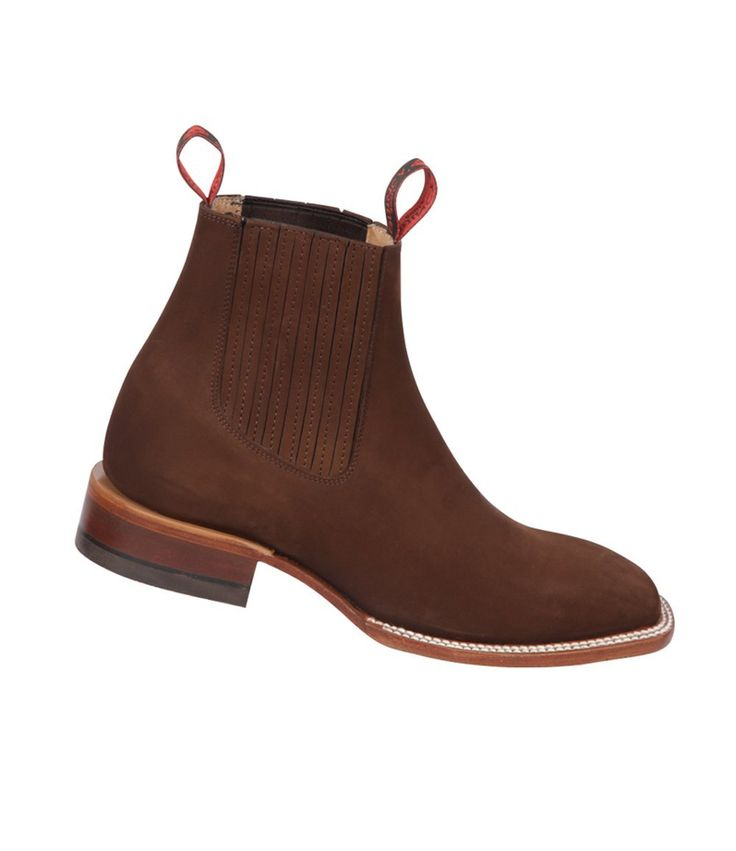gamuza: (100, 205, 661, 646)
